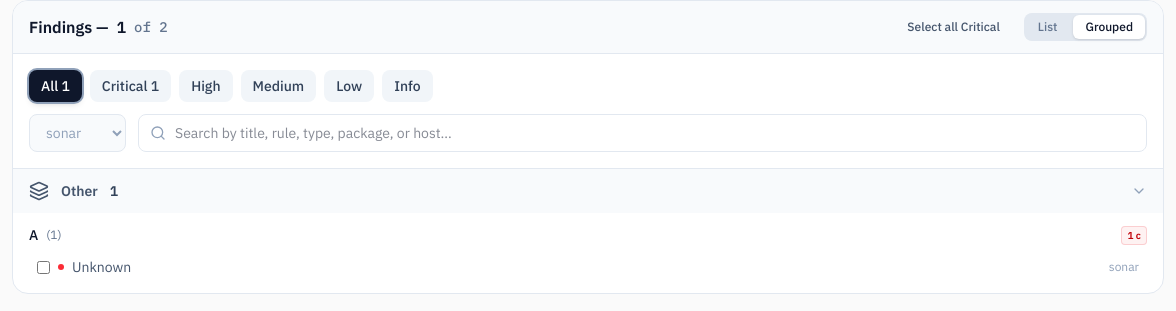
New badge: findings present in the previous scan are not badged
This screenshot has width=1176, height=311.
// Switch to list view so each finding's title renders as its own row.
Click the button "List" at x=1048, y=27, box [1026,15,1070,39]
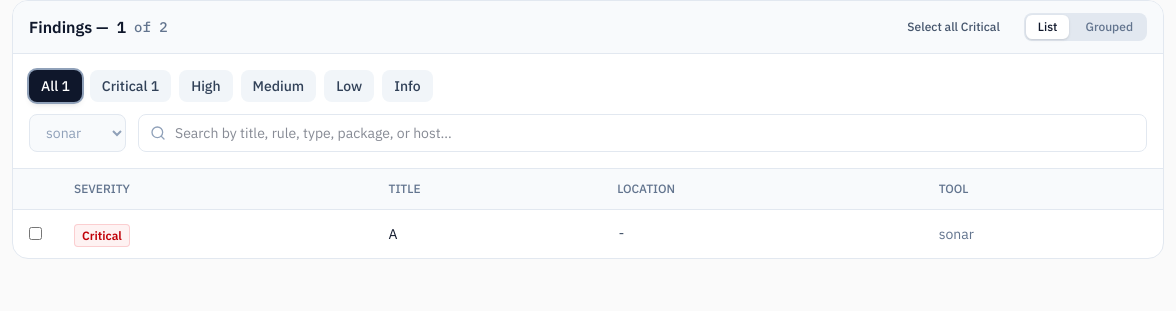
Expected: the text "a" is shown, [389,225,398,243]
